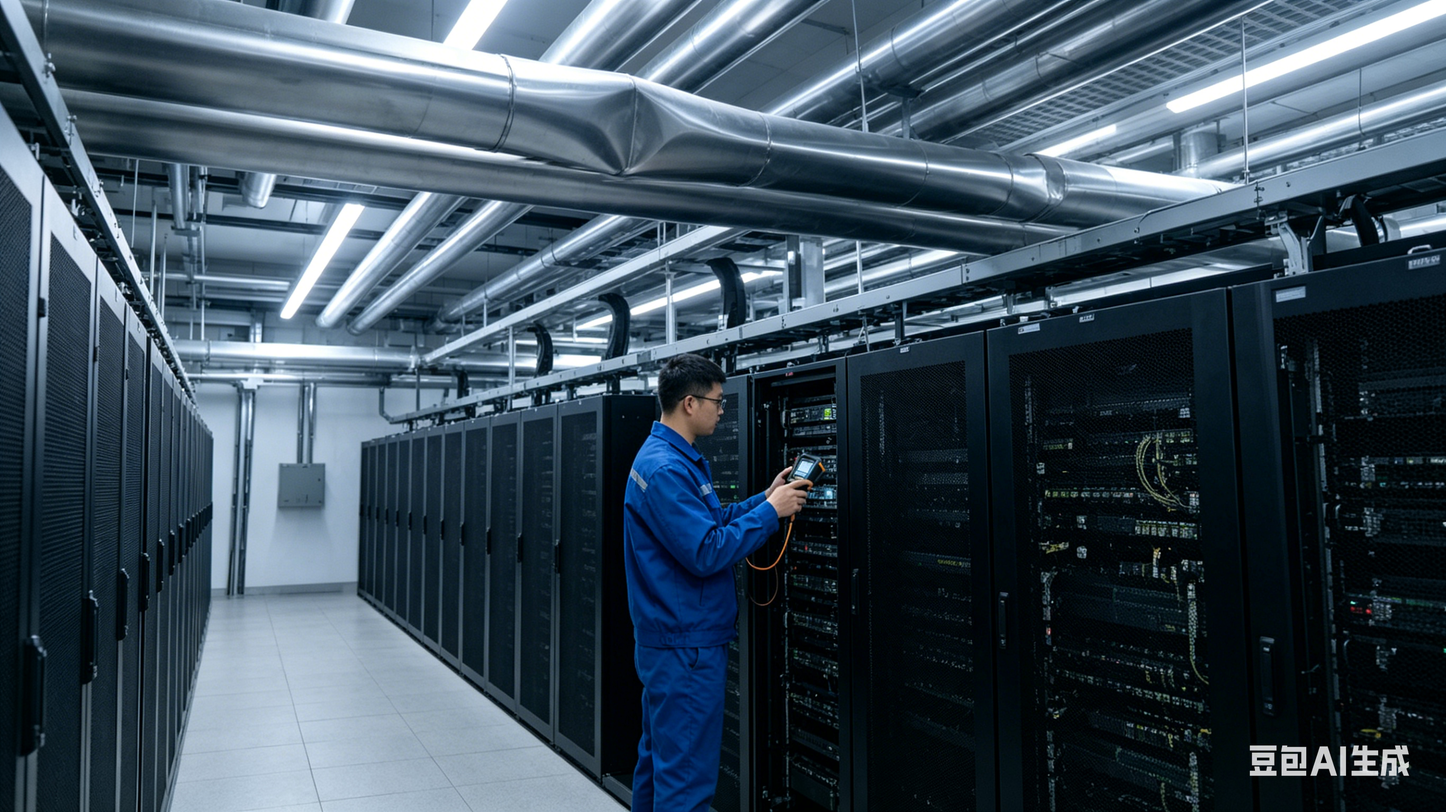Leakage: (586, 82, 683, 181)
